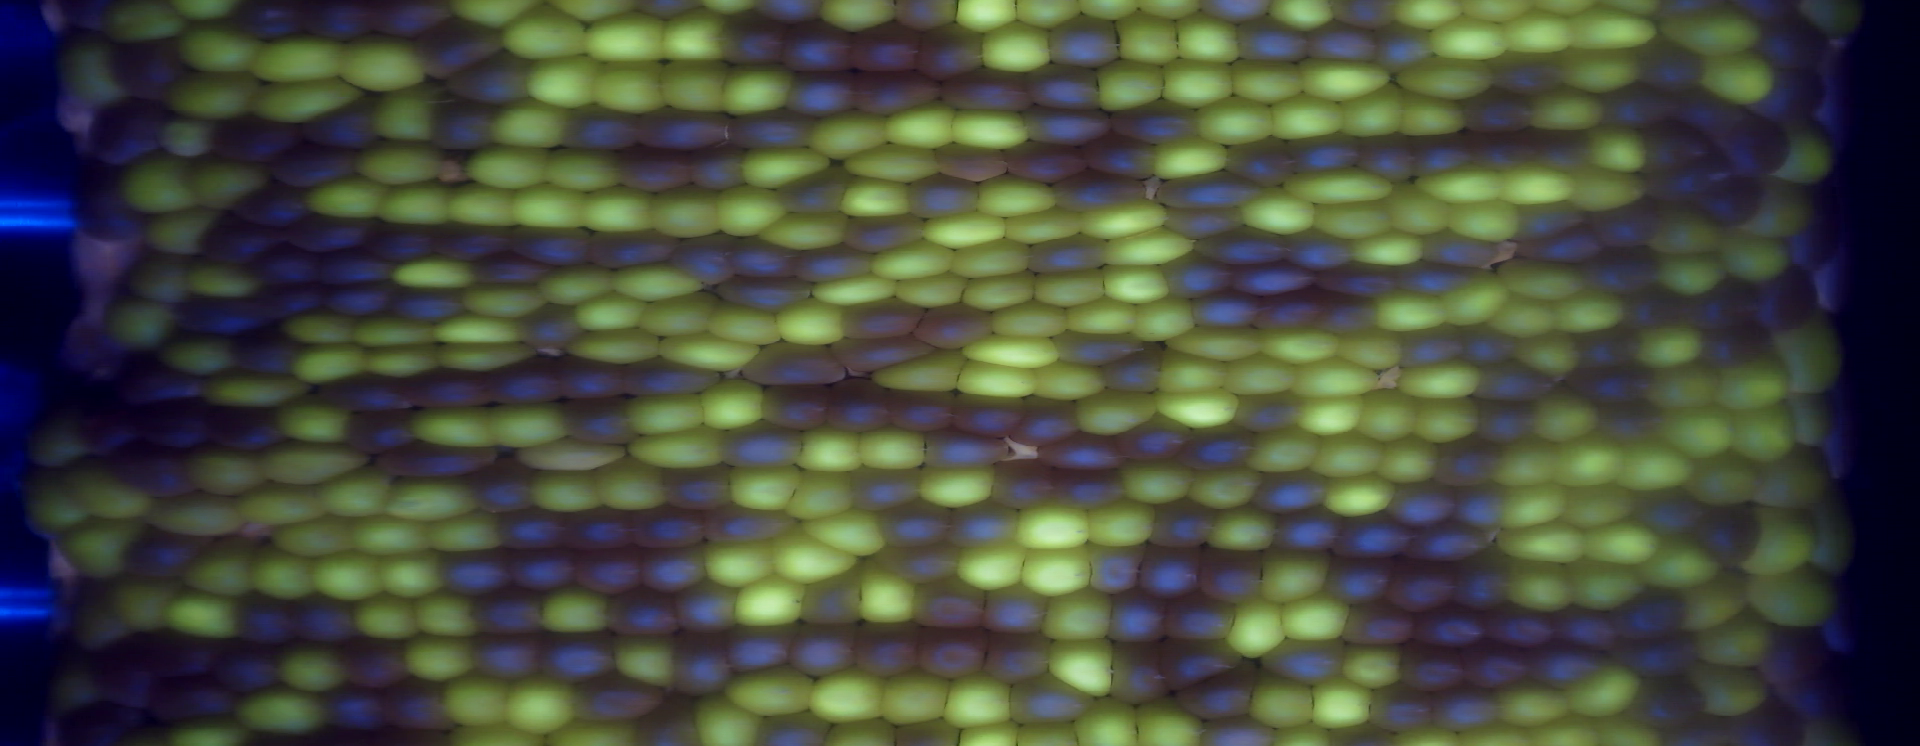fluorescent: (49, 23, 137, 114), (1773, 303, 1853, 398), (1747, 559, 1844, 636), (53, 453, 153, 527), (331, 29, 433, 100), (1652, 1, 1771, 62), (1741, 499, 1823, 586), (718, 657, 827, 722), (111, 145, 207, 218), (51, 511, 146, 584), (251, 436, 376, 491), (1684, 603, 1780, 674), (1682, 657, 1780, 726), (170, 13, 276, 78), (1746, 441, 1840, 513), (191, 366, 324, 416), (246, 27, 353, 89), (1553, 2, 1669, 59), (242, 73, 366, 126), (1389, 51, 1506, 107), (173, 153, 276, 216), (227, 681, 340, 737), (133, 488, 250, 543), (13, 464, 92, 545), (1607, 431, 1702, 497), (1558, 552, 1653, 619), (1767, 107, 1842, 191), (1524, 379, 1613, 450), (1273, 160, 1401, 209), (1681, 445, 1776, 511), (1187, 89, 1286, 152), (178, 439, 274, 502), (1638, 198, 1733, 263), (493, 2, 591, 65), (349, 134, 453, 192), (1041, 632, 1127, 703), (454, 137, 560, 195), (803, 661, 896, 726), (733, 142, 842, 197), (770, 526, 864, 589), (1716, 347, 1802, 415), (849, 554, 928, 628), (380, 472, 490, 526), (1802, 477, 1860, 579), (604, 626, 687, 697), (1652, 401, 1746, 463), (1431, 265, 1517, 333), (871, 664, 958, 731), (273, 391, 369, 452), (1698, 45, 1790, 109), (1489, 254, 1597, 307), (577, 9, 673, 69), (1289, 54, 1400, 107), (1560, 658, 1649, 723), (520, 47, 606, 114), (93, 294, 187, 355), (801, 107, 899, 165), (1678, 566, 1756, 639), (651, 51, 738, 118), (1720, 396, 1801, 467), (798, 503, 894, 563), (1244, 664, 1326, 734), (1638, 528, 1727, 593), (1378, 175, 1461, 244), (1037, 583, 1120, 652), (650, 328, 767, 377), (92, 576, 189, 635), (868, 345, 976, 398), (160, 67, 263, 122), (121, 246, 207, 312), (271, 635, 361, 697), (480, 397, 578, 454), (1744, 176, 1826, 245), (1498, 552, 1580, 621), (1251, 544, 1340, 608), (587, 55, 670, 122), (231, 479, 340, 530), (623, 428, 737, 477), (1007, 495, 1103, 552), (1550, 43, 1651, 98), (403, 398, 501, 454), (647, 179, 730, 245), (176, 539, 260, 605), (1549, 428, 1633, 492), (1491, 477, 1576, 541), (1491, 516, 1593, 570), (133, 202, 223, 263), (693, 534, 786, 593), (1559, 160, 1656, 217), (1231, 179, 1321, 239), (431, 673, 522, 733), (1637, 359, 1731, 416), (497, 673, 582, 736), (20, 405, 98, 474), (311, 465, 400, 526), (1107, 6, 1187, 73), (244, 539, 323, 606), (1520, 83, 1616, 138), (484, 93, 571, 154), (1487, 432, 1573, 494), (531, 258, 626, 315), (1109, 456, 1204, 512), (1089, 54, 1172, 118), (708, 179, 791, 243), (1078, 496, 1166, 556), (1147, 343, 1239, 401), (367, 81, 447, 147), (538, 142, 633, 197), (938, 668, 1018, 734), (767, 293, 856, 352), (1093, 225, 1206, 272), (607, 256, 707, 309), (973, 16, 1060, 76), (560, 323, 669, 371), (716, 59, 800, 121), (839, 141, 950, 187), (522, 464, 613, 521), (280, 338, 376, 392), (307, 546, 393, 606), (157, 586, 242, 646), (1070, 388, 1163, 443), (590, 454, 672, 517), (429, 332, 541, 377), (397, 628, 487, 685), (1074, 194, 1176, 244), (1368, 285, 1464, 338), (1222, 54, 1316, 108), (149, 327, 244, 381), (1156, 53, 1240, 113), (726, 571, 811, 631), (654, 4, 733, 67), (1491, 676, 1581, 733), (1624, 318, 1713, 375), (954, 330, 1068, 374), (1141, 132, 1234, 186), (1490, 157, 1583, 211), (1128, 688, 1215, 746), (831, 171, 922, 227), (302, 171, 393, 227), (1180, 459, 1271, 514), (1479, 287, 1567, 343), (912, 461, 1007, 513), (722, 461, 808, 518), (1719, 232, 1801, 292), (1151, 385, 1251, 434), (344, 510, 440, 561), (1411, 160, 1513, 208), (1164, 322, 1270, 369), (1389, 87, 1476, 143), (1558, 478, 1644, 534), (369, 546, 452, 605), (1778, 385, 1849, 453), (1648, 247, 1733, 305), (754, 207, 853, 256), (97, 1, 193, 51), (1420, 12, 1517, 62), (443, 176, 524, 236), (268, 512, 362, 563), (913, 208, 1018, 255), (574, 181, 660, 238), (940, 235, 1038, 284), (948, 356, 1046, 405), (1444, 194, 1531, 249), (969, 169, 1062, 220), (779, 465, 858, 526), (1171, 6, 1244, 71), (1278, 588, 1359, 647), (1016, 544, 1097, 603), (951, 537, 1032, 595), (866, 238, 962, 287), (943, 103, 1037, 153), (1282, 354, 1384, 401), (507, 176, 593, 232), (1577, 514, 1667, 567), (1348, 383, 1427, 443), (689, 692, 776, 746), (344, 587, 424, 646), (1319, 468, 1403, 523), (1304, 674, 1380, 735), (696, 372, 773, 432), (174, 254, 271, 301), (426, 305, 534, 348), (1223, 593, 1289, 663), (954, 266, 1046, 316), (620, 388, 711, 439), (340, 307, 444, 352), (1333, 81, 1413, 138), (1408, 391, 1488, 448), (1254, 321, 1349, 369), (1067, 692, 1151, 746), (880, 96, 961, 152), (1267, 91, 1352, 145), (1309, 428, 1390, 484), (531, 582, 613, 637), (1494, 6, 1580, 59), (1548, 285, 1633, 338), (1509, 326, 1587, 383), (1307, 198, 1401, 246), (387, 249, 481, 296), (1396, 356, 1490, 404), (369, 178, 452, 232), (850, 423, 937, 474), (1220, 348, 1302, 402), (702, 298, 787, 349), (457, 281, 560, 323), (993, 206, 1090, 251), (407, 586, 482, 643), (1244, 425, 1329, 477), (1343, 223, 1431, 272), (1202, 503, 1281, 559), (1580, 118, 1653, 176), (1058, 292, 1144, 342), (1333, 323, 1411, 379), (424, 507, 509, 556), (789, 423, 869, 474), (571, 288, 658, 336), (1093, 258, 1178, 307), (1376, 428, 1444, 489), (634, 292, 720, 339), (1127, 292, 1198, 349), (1029, 265, 1112, 314), (1029, 359, 1116, 405), (803, 268, 902, 309), (989, 298, 1078, 343), (278, 304, 369, 348), (156, 707, 257, 746), (358, 341, 451, 382), (1790, 1, 1881, 43), (1338, 638, 1408, 692), (1291, 392, 1370, 439), (442, 1, 546, 36), (811, 1, 905, 38), (893, 267, 971, 311), (151, 114, 220, 163), (1587, 709, 1678, 746), (1382, 1, 1464, 36), (1258, 1, 1338, 36), (1010, 1, 1089, 36), (1527, 713, 1608, 746), (546, 1, 644, 27), (948, 1, 1020, 36), (1453, 1, 1544, 23)
nonfluorescent: (66, 157, 149, 251), (1809, 36, 1871, 159), (1804, 209, 1873, 318), (408, 13, 513, 82), (369, 432, 500, 488), (81, 628, 168, 710), (1780, 171, 1849, 274), (1638, 141, 1739, 209), (440, 48, 546, 111), (82, 92, 171, 167), (1771, 654, 1867, 723), (566, 668, 673, 729), (741, 336, 852, 394), (103, 33, 193, 105), (1747, 13, 1838, 86), (1716, 104, 1798, 184), (102, 441, 202, 506), (1817, 374, 1873, 489), (711, 413, 813, 477), (1152, 632, 1251, 697), (1041, 9, 1134, 77), (533, 624, 626, 692), (130, 390, 228, 454), (300, 85, 389, 156), (869, 492, 966, 557), (864, 535, 976, 592), (1657, 78, 1757, 141), (1604, 581, 1693, 650), (190, 209, 288, 273), (111, 527, 217, 586), (711, 2, 798, 73), (1000, 671, 1103, 731), (1173, 659, 1267, 724), (693, 499, 808, 551), (372, 669, 462, 736), (616, 353, 730, 405), (1019, 55, 1114, 118), (849, 65, 951, 122), (1632, 31, 1716, 102), (476, 349, 571, 412), (1691, 499, 1769, 573), (1398, 513, 1500, 571), (1746, 62, 1827, 135), (1751, 617, 1839, 684), (838, 16, 931, 78), (632, 102, 740, 156), (1592, 78, 1689, 138), (263, 138, 369, 194), (1607, 627, 1709, 684), (1258, 631, 1358, 688), (197, 396, 291, 457), (396, 363, 502, 416), (209, 111, 302, 173), (910, 619, 994, 686), (202, 635, 287, 702), (1190, 223, 1300, 274), (1153, 586, 1244, 648), (460, 626, 551, 688), (767, 159, 861, 219), (1156, 168, 1269, 218), (50, 696, 163, 746), (1633, 111, 1714, 181), (1042, 167, 1157, 216), (938, 62, 1040, 118), (317, 675, 396, 746), (67, 391, 147, 461), (567, 543, 658, 604), (771, 20, 866, 78), (579, 224, 687, 276), (310, 367, 418, 419), (939, 492, 1031, 552), (793, 563, 872, 633), (721, 103, 820, 158), (144, 673, 244, 728), (621, 501, 718, 557), (1423, 676, 1510, 739), (108, 355, 211, 408), (839, 456, 931, 514), (1449, 81, 1542, 138), (1528, 632, 1614, 695), (217, 323, 307, 382), (1682, 272, 1773, 331), (1547, 597, 1629, 661), (653, 459, 747, 516), (662, 625, 733, 699), (1382, 473, 1466, 537), (140, 622, 223, 686), (467, 450, 542, 519), (1311, 552, 1400, 612), (983, 454, 1071, 514), (431, 541, 519, 601), (1624, 483, 1712, 543), (911, 18, 989, 86), (1111, 97, 1209, 151), (560, 393, 644, 456), (909, 573, 993, 636), (1382, 554, 1468, 615), (1031, 428, 1138, 477), (1389, 637, 1476, 697), (1621, 674, 1712, 731), (782, 616, 858, 685), (976, 625, 1059, 687), (1326, 508, 1420, 563), (222, 586, 300, 652), (1019, 100, 1117, 153), (1468, 356, 1566, 409), (336, 631, 416, 695), (553, 99, 647, 154), (849, 615, 922, 685), (1564, 318, 1651, 377), (1576, 241, 1667, 298), (669, 573, 746, 639), (170, 292, 274, 341), (999, 138, 1096, 191), (1756, 263, 1826, 336), (1228, 12, 1318, 69), (753, 379, 842, 435), (1714, 698, 1820, 746), (280, 209, 388, 256), (1447, 544, 1512, 621), (1142, 494, 1226, 554), (497, 539, 580, 599), (280, 586, 364, 646), (822, 334, 938, 377), (1456, 635, 1536, 697), (817, 376, 898, 437), (1106, 635, 1173, 708), (610, 142, 699, 197), (1007, 393, 1089, 453), (1021, 229, 1114, 282), (1048, 325, 1153, 371), (553, 501, 640, 557), (1407, 597, 1490, 655), (1247, 467, 1337, 521), (427, 88, 500, 156), (464, 579, 549, 637), (911, 301, 999, 356), (669, 228, 743, 293), (947, 385, 1029, 443), (1427, 434, 1509, 492), (1589, 195, 1671, 254), (1194, 546, 1271, 609), (1300, 13, 1384, 71), (879, 382, 964, 439), (512, 219, 598, 274), (839, 294, 931, 345), (1333, 597, 1416, 654), (781, 67, 864, 124), (339, 405, 422, 462), (1689, 171, 1772, 228), (382, 283, 478, 332), (1558, 363, 1660, 408), (1360, 677, 1438, 737), (1267, 503, 1351, 559), (1580, 394, 1667, 447), (714, 621, 789, 682), (839, 211, 934, 258), (512, 301, 593, 358), (1178, 421, 1262, 475), (490, 502, 574, 556), (1158, 247, 1240, 303), (1281, 223, 1367, 276), (716, 273, 822, 316), (782, 243, 879, 289), (1280, 127, 1371, 176), (918, 428, 1018, 473), (1693, 323, 1783, 374), (241, 241, 328, 293), (980, 583, 1056, 642), (1220, 136, 1300, 191), (231, 181, 316, 234), (1048, 462, 1133, 514), (1228, 257, 1321, 305), (1346, 131, 1424, 187), (901, 171, 987, 223), (1134, 541, 1207, 601), (626, 695, 711, 746), (310, 245, 404, 292), (1086, 131, 1166, 186), (1403, 127, 1483, 183), (1113, 412, 1193, 467), (1479, 597, 1562, 649), (726, 228, 802, 285), (602, 584, 680, 641), (230, 283, 334, 325), (362, 1, 456, 48), (424, 218, 517, 265), (1487, 47, 1566, 100), (1526, 125, 1602, 181), (1079, 537, 1149, 598), (1104, 586, 1174, 647), (1513, 225, 1610, 269), (556, 352, 634, 405), (1611, 282, 1693, 333), (223, 1, 316, 47), (1367, 20, 1441, 76), (637, 541, 713, 597), (1416, 225, 1507, 271), (928, 141, 1018, 187), (1313, 261, 1407, 305), (1450, 477, 1513, 541), (1820, 601, 1870, 684), (1468, 392, 1543, 447), (1100, 341, 1168, 401), (468, 247, 558, 293), (1229, 387, 1310, 437), (1156, 201, 1253, 243), (1248, 285, 1326, 336), (1460, 127, 1544, 174), (1393, 257, 1490, 298), (362, 216, 440, 266), (1396, 322, 1473, 372), (1509, 197, 1589, 245), (1184, 287, 1269, 332), (302, 1, 383, 47), (1457, 318, 1524, 372), (320, 279, 398, 325), (689, 145, 753, 198), (1313, 292, 1381, 341), (1189, 712, 1282, 746), (887, 1, 960, 37), (751, 1, 829, 28)
